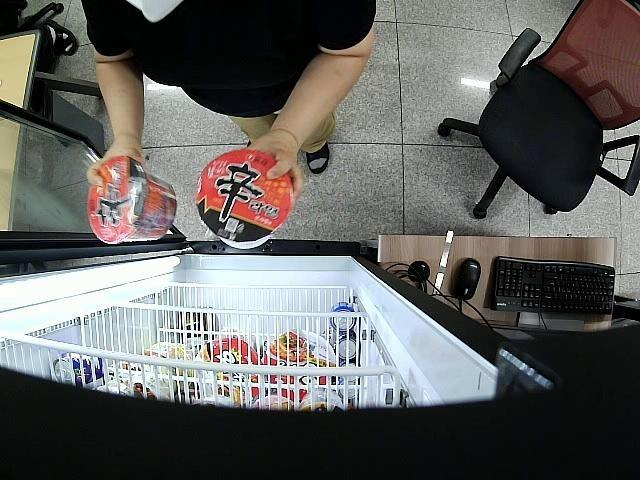01_ShinRamen_L: (196, 148, 293, 248), (88, 154, 178, 245)
